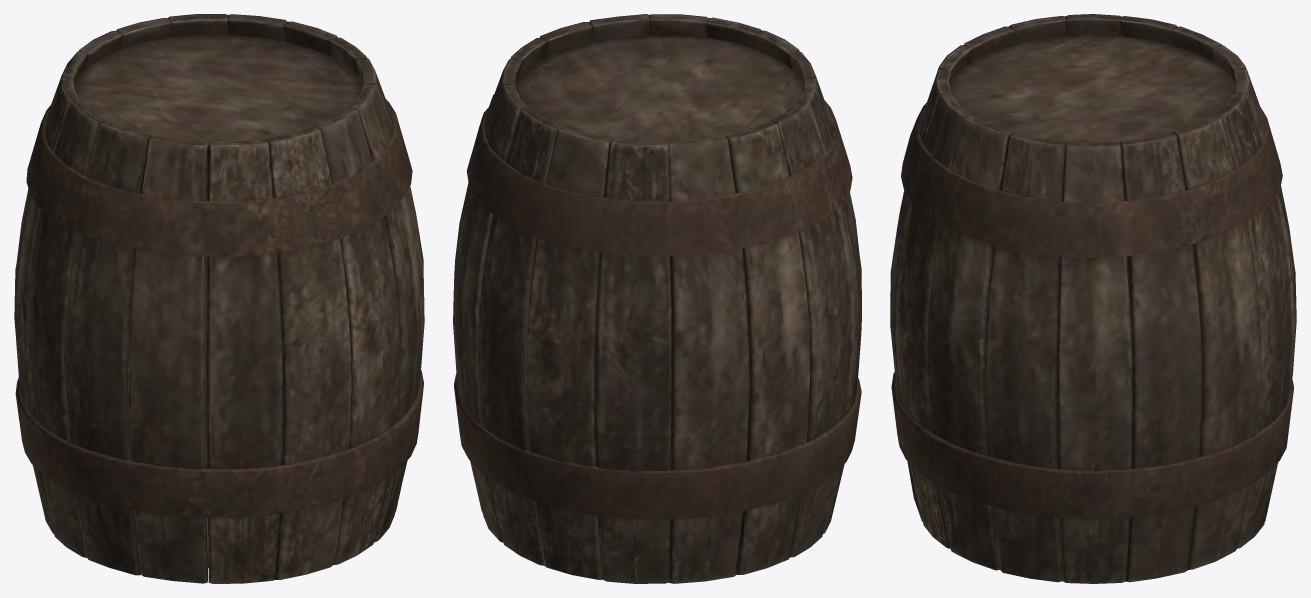
Rendered from d_barrel_small.glb.
The picture shows the model from 3 angles, left to right: view 1: azimuth 30°, elevation 25°; view 2: azimuth 150°, elevation 25°; view 3: azimuth 270°, elevation 25°; orthographic projection.
Visible parts, largest first — view 1: d_barrel_small; view 2: d_barrel_small; view 3: d_barrel_small.
Part boxes in pixels (x1=…): d_barrel_small: x1=14, y1=14, x2=424, y2=583; d_barrel_small: x1=453, y1=14, x2=861, y2=583; d_barrel_small: x1=890, y1=14, x2=1296, y2=583.
Bounding box in the file's own units: 0.8912 × 1.02 × 0.8768.
1 material, 1 textured.
